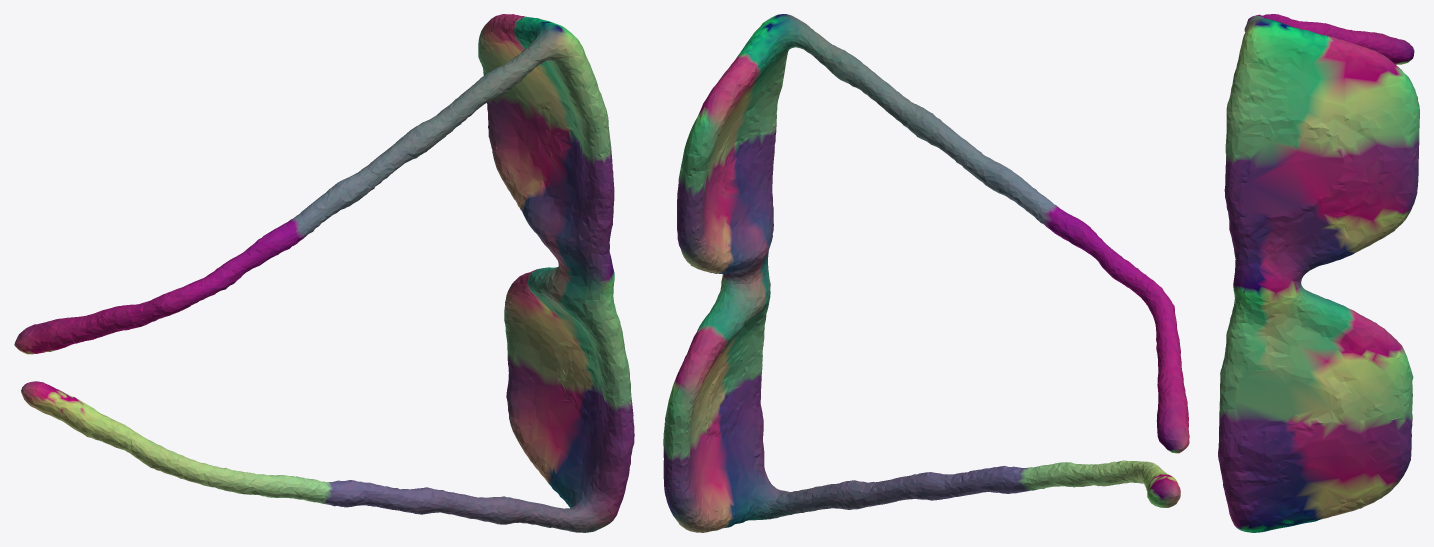
Rendered from glasses-20.off.obj.
3 renders of one model, left to right at view 1: azimuth 30°, elevation 25°; view 2: azimuth 150°, elevation 25°; view 3: azimuth 270°, elevation 25°, orthographic. The views are drawn at different scales.
Bounding box in the file's own units: 1.15 × 1.05 × 0.3862.
